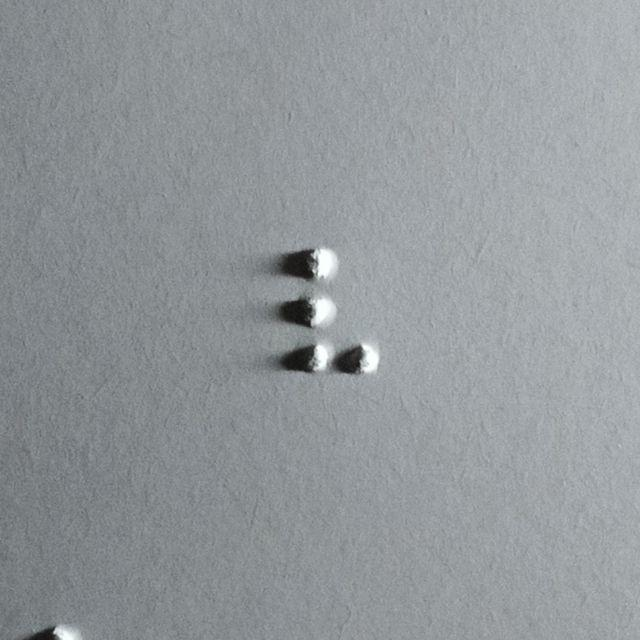v: (294, 245, 380, 377)
